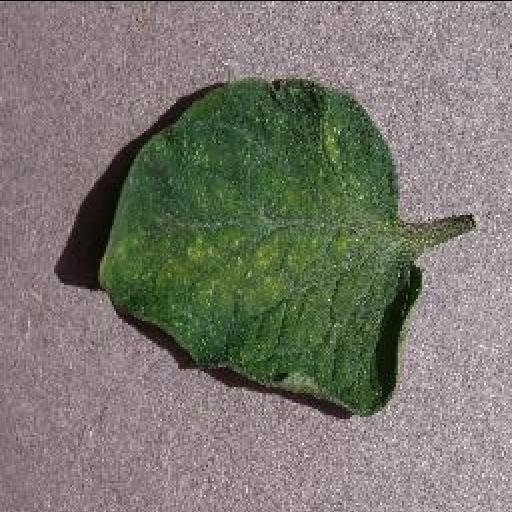disease_tomato: (96, 78, 422, 418)
